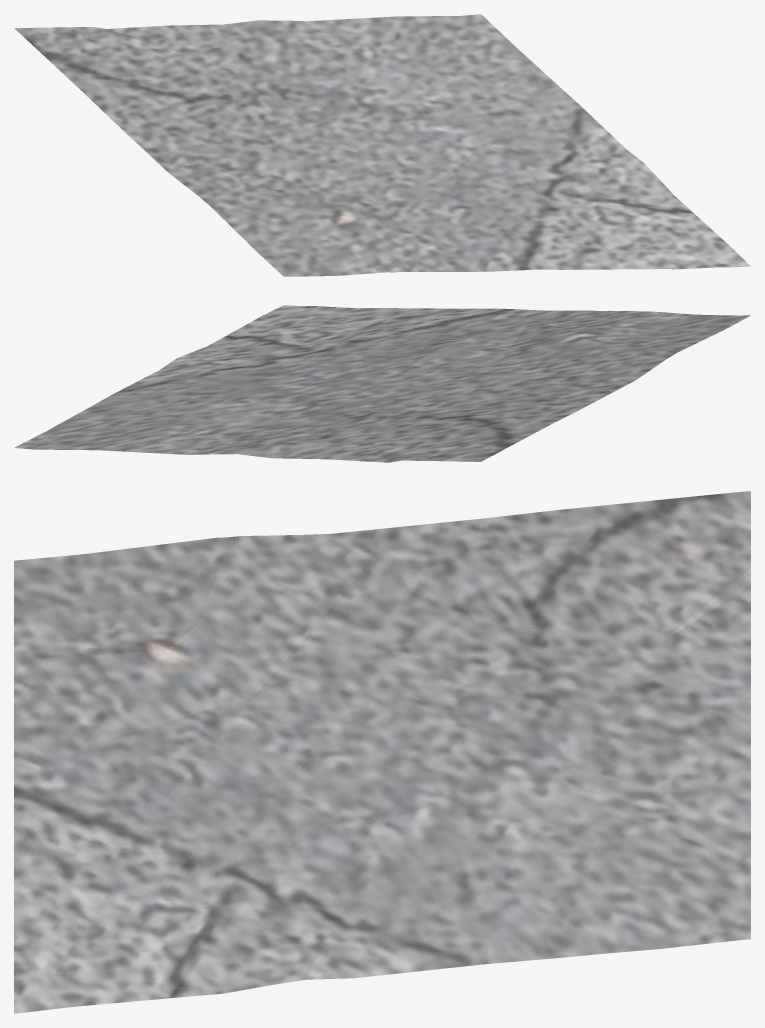
3 views of the same model, one above another, from view 1: azimuth 30°, elevation 25°; view 2: azimuth 150°, elevation 25°; view 3: azimuth 270°, elevation 25° (orthographic). The views are drawn at different scales.
Size of the model in its own units: 0.8374 by 0.265 by 0.8374.
Materials: 3 (3 with a texture image).
